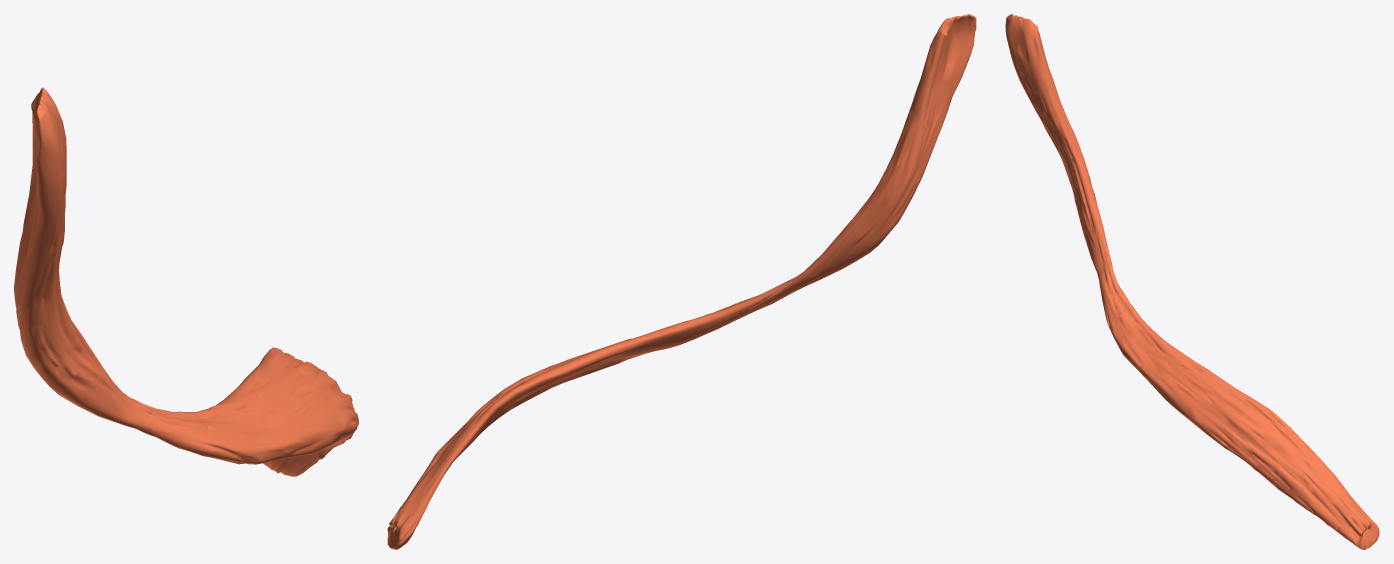
File: Omohyoid_left.glb
3 views of the same model, side by side, from view 1: azimuth 30°, elevation 25°; view 2: azimuth 150°, elevation 25°; view 3: azimuth 270°, elevation 25° (orthographic). The views are drawn at different scales.
Visible parts, largest first — view 1: Omohyoid_muscle.l_Generated_Mesh_From_X3D.319; view 2: Omohyoid_muscle.l_Generated_Mesh_From_X3D.319; view 3: Omohyoid_muscle.l_Generated_Mesh_From_X3D.319.
Boxes of the visible parts, <box> form: Omohyoid_muscle.l_Generated_Mesh_From_X3D.319: <box>14,87,358,476</box>; Omohyoid_muscle.l_Generated_Mesh_From_X3D.319: <box>387,14,976,549</box>; Omohyoid_muscle.l_Generated_Mesh_From_X3D.319: <box>1005,14,1379,549</box>.
Bounding box in the file's own units: 0.0908 × 0.1066 × 0.0935.
